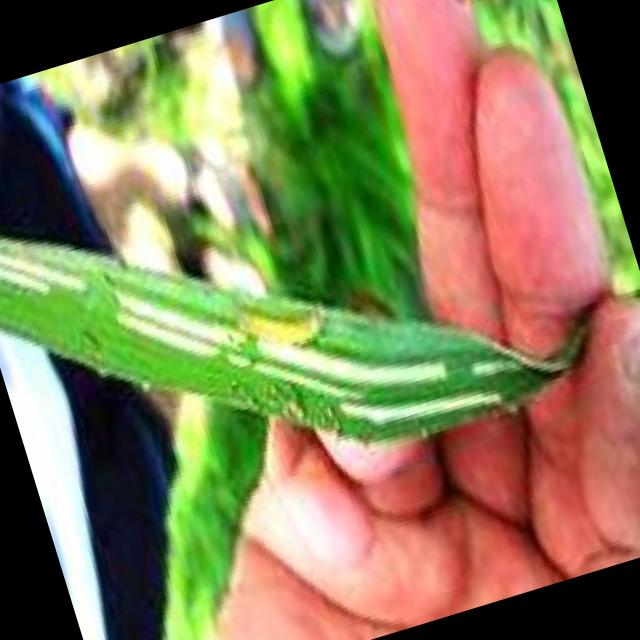leaf-folder: (215, 247, 348, 394)
